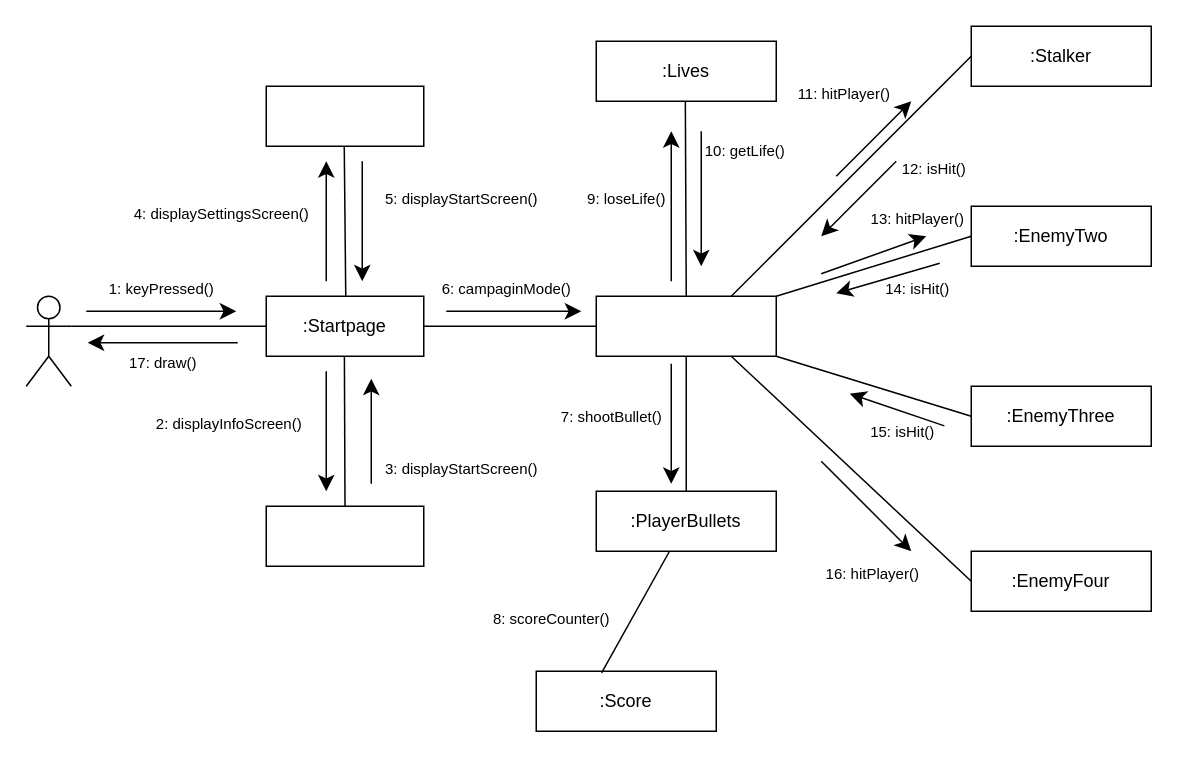
Image size: 1178x758. Some labels were removed from this diagram. Here are the shapes that lost their labels. From the top down, the centre of each, then its label:
point 344,115: :Settings
point 48,340: Actor
point 685,325: :Player
point 344,535: :Instructions
